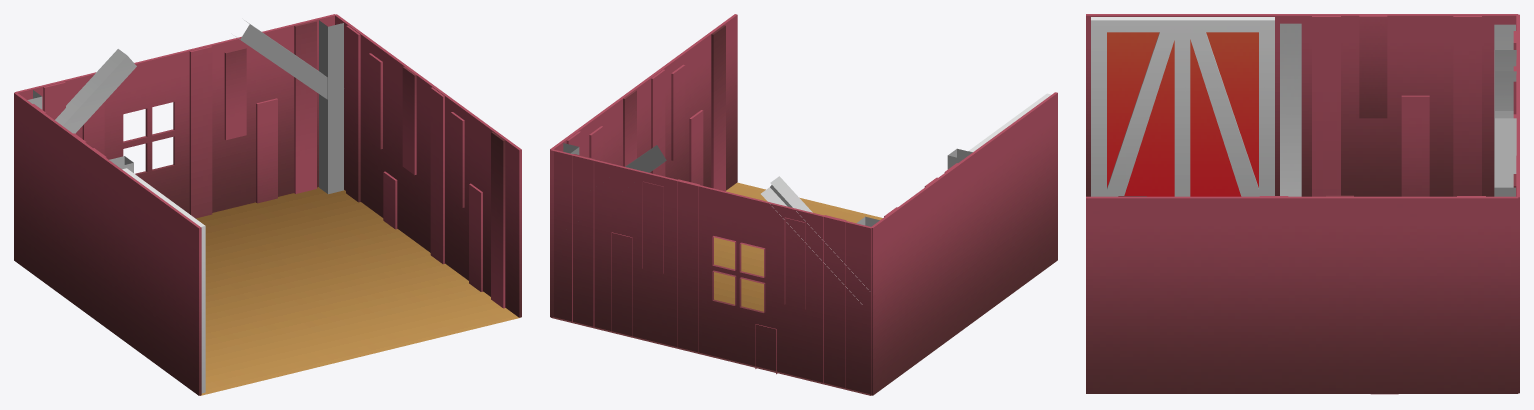
Rendered from barn interior.fbx.
3 renders of one model, left to right at view 1: azimuth 30°, elevation 25°; view 2: azimuth 150°, elevation 25°; view 3: azimuth 270°, elevation 25°, orthographic. The views are drawn at different scales.
Parts seen in each view (by area): view 1: floor, wall_leftwith_planks, back_wall_with_planks, wall_right_with_planks, beam4, beam3, barn_door; view 2: back_wall_with_planks, wall_leftwith_planks, wall_right_with_planks, floor, beam3, beam4; view 3: wall_right_with_planks, wall_leftwith_planks, barn_door, beam, beam3, beam4, back_wall_with_planks.
Part boxes in pixels (box(x1,y1,x2,y2)): floor: box(196, 187, 520, 395); wall_leftwith_planks: box(14, 92, 201, 395); back_wall_with_planks: box(14, 14, 335, 218); wall_right_with_planks: box(335, 14, 521, 317); beam4: box(235, 20, 343, 194); beam3: box(27, 49, 136, 133); barn_door: box(122, 168, 205, 393); back_wall_with_planks: box(550, 149, 871, 395); wall_leftwith_planks: box(870, 92, 1057, 395); wall_right_with_planks: box(550, 14, 737, 317); floor: box(714, 182, 882, 311); beam3: box(761, 176, 879, 304); beam4: box(563, 143, 666, 172); wall_right_with_planks: box(1086, 195, 1518, 394); wall_leftwith_planks: box(1086, 14, 1518, 196); barn_door: box(1091, 17, 1274, 196); beam: box(1280, 23, 1301, 196); beam3: box(1494, 24, 1516, 187); beam4: box(1494, 118, 1516, 196); back_wall_with_planks: box(1513, 14, 1519, 393).
Bounding box in the file's own units: 6.05 × 3.42 × 6.03.
